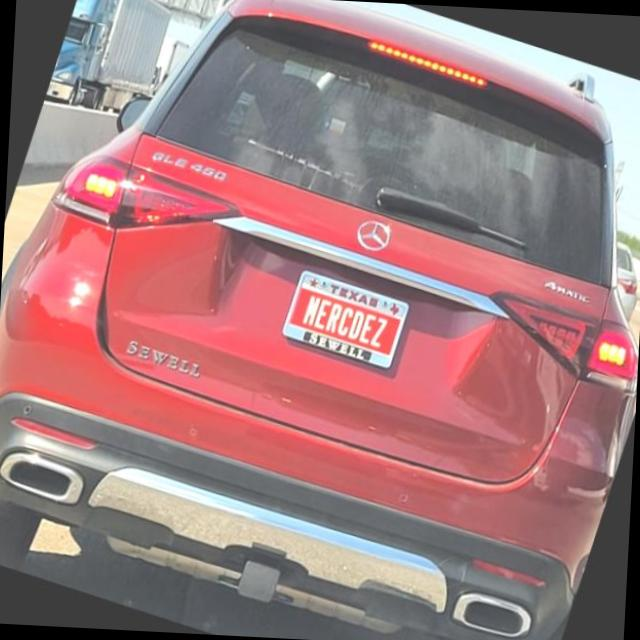LicensePlate: (280, 269, 411, 370)
